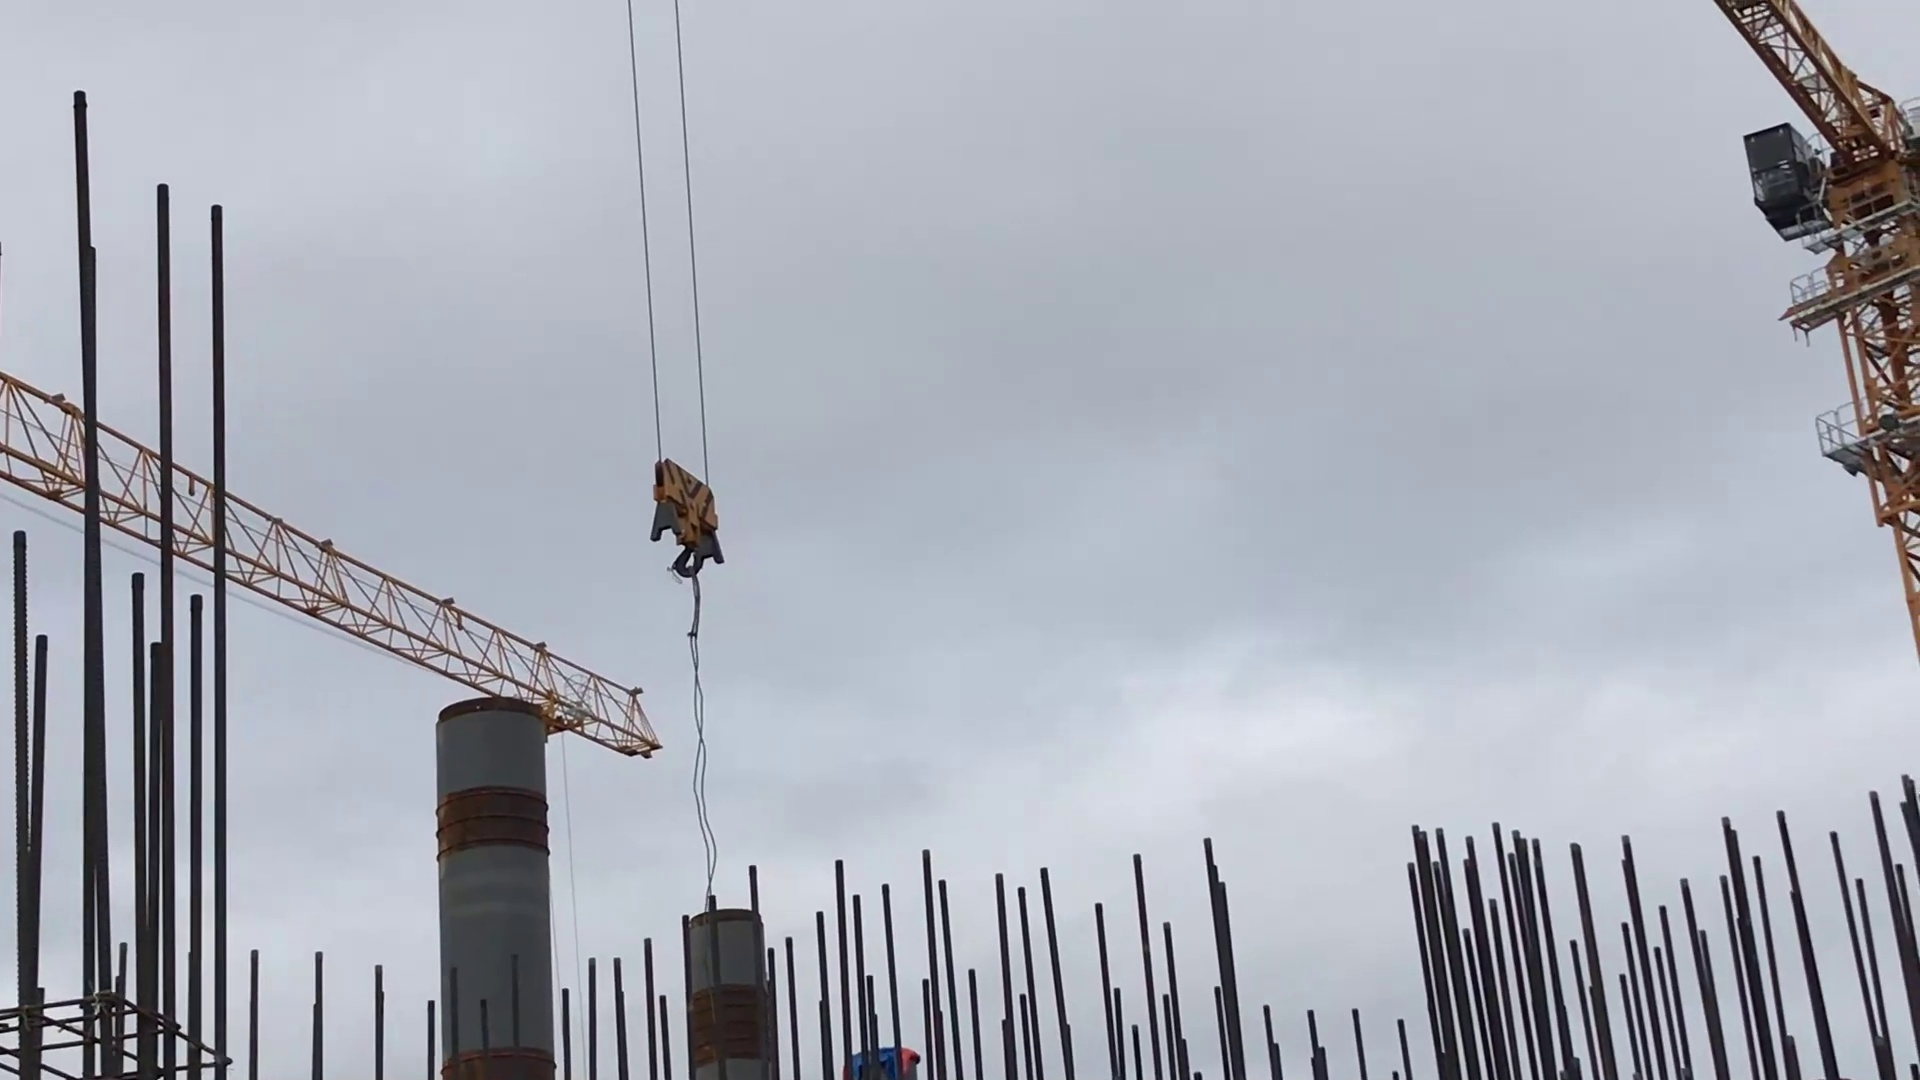hook: (622, 430, 762, 607)
